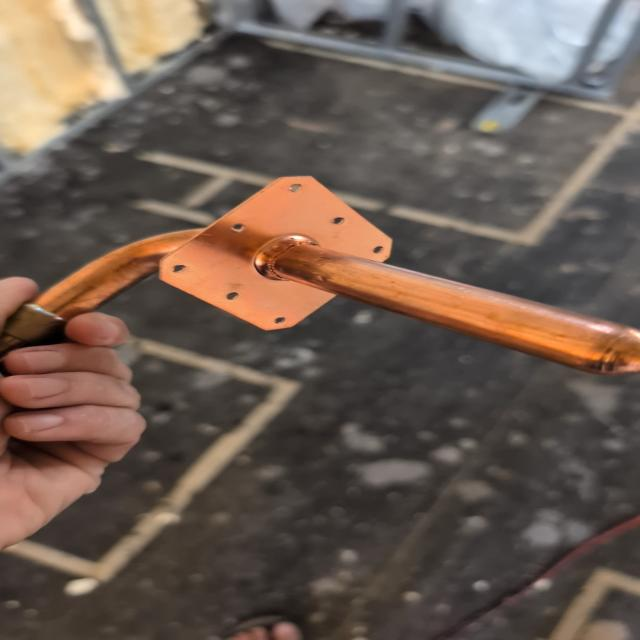wall_flange: (1, 169, 640, 410)
